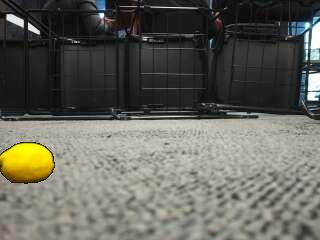lemon: (0, 142, 54, 184)
